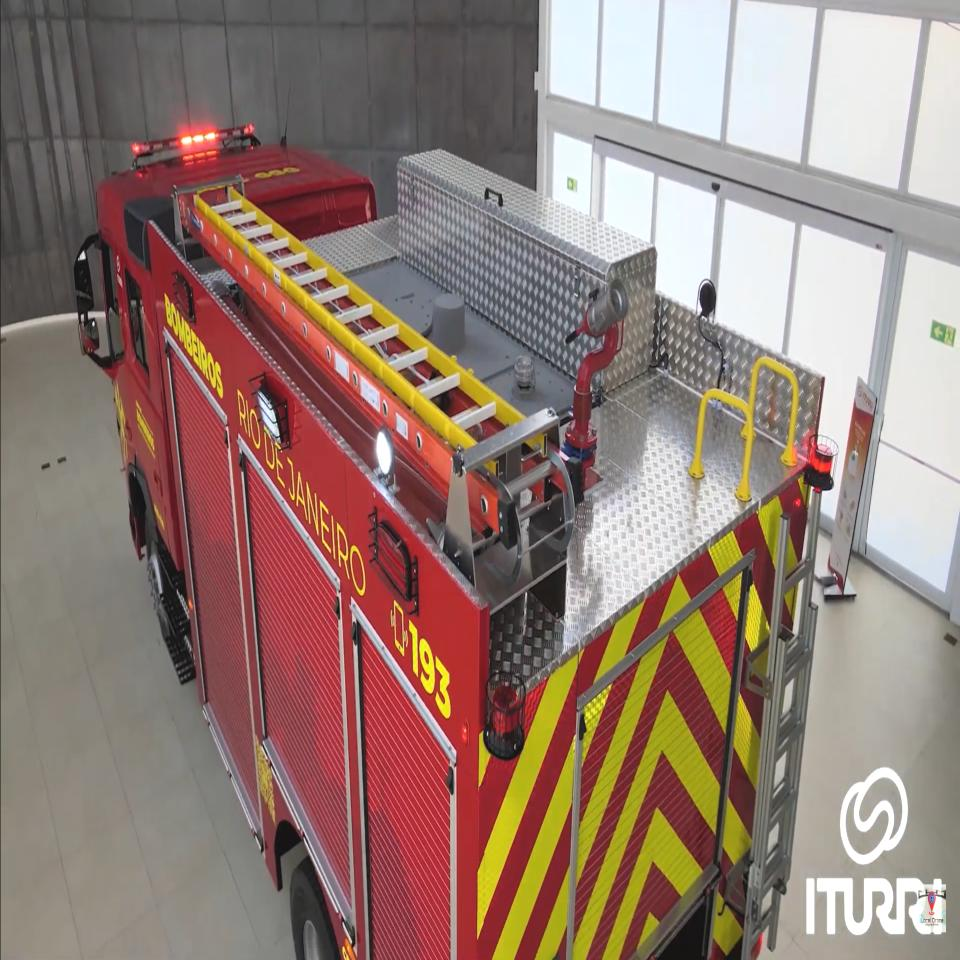bombeiro: (75, 121, 824, 960)
